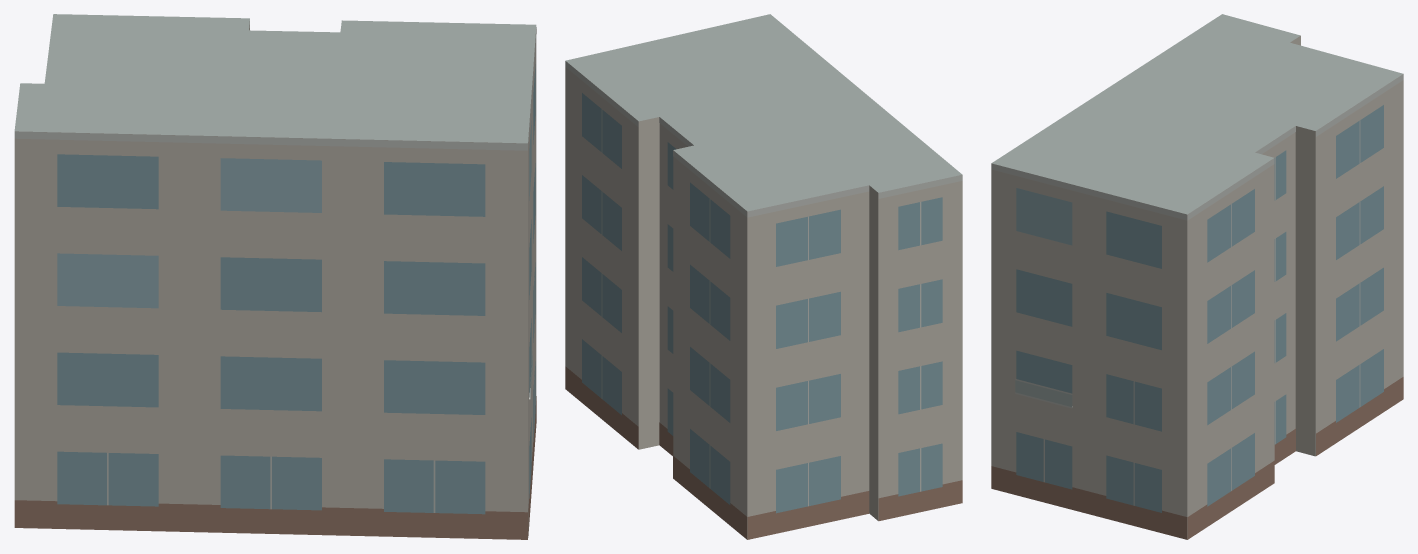
The model's file is survey-upis-32990003.glb.
The picture shows the model from 3 angles, left to right: view 1: azimuth 30°, elevation 25°; view 2: azimuth 150°, elevation 25°; view 3: azimuth 270°, elevation 25°; orthographic projection. The views are drawn at different scales.
Visible parts, largest first — view 1: survey-upis-32990003.tmp; view 2: survey-upis-32990003.tmp; view 3: survey-upis-32990003.tmp.
Boxes of the visible parts, x1,y1,x2,y2 form: survey-upis-32990003.tmp: [14, 14, 536, 539]; survey-upis-32990003.tmp: [565, 14, 962, 539]; survey-upis-32990003.tmp: [991, 14, 1403, 539].
Size of the model in its own units: 17.26 by 13.05 by 15.
